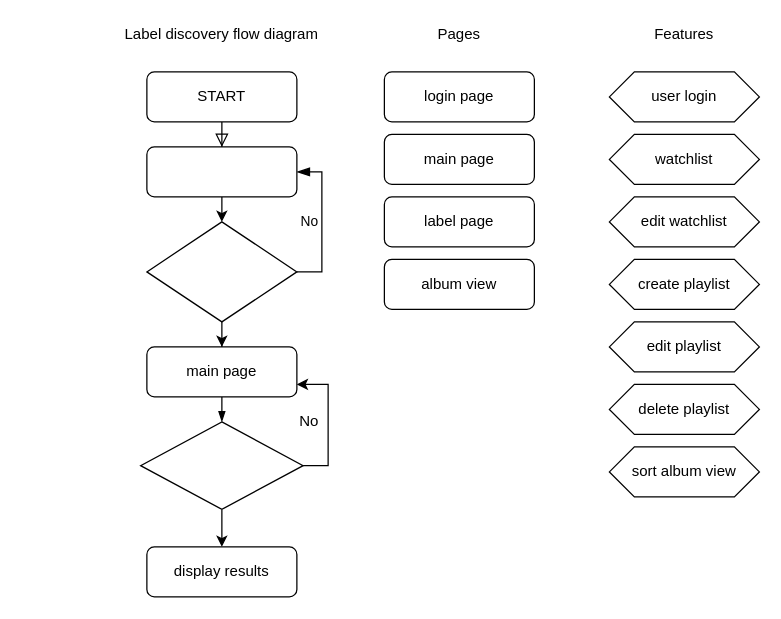
This 781x619 diagram has some shape labels left out. Each missing label, with the box of its shape:
homepage login / register: (146, 146, 297, 197)
SPOTIFY authentication: (146, 221, 297, 322)
user selects label: (139, 421, 303, 509)
